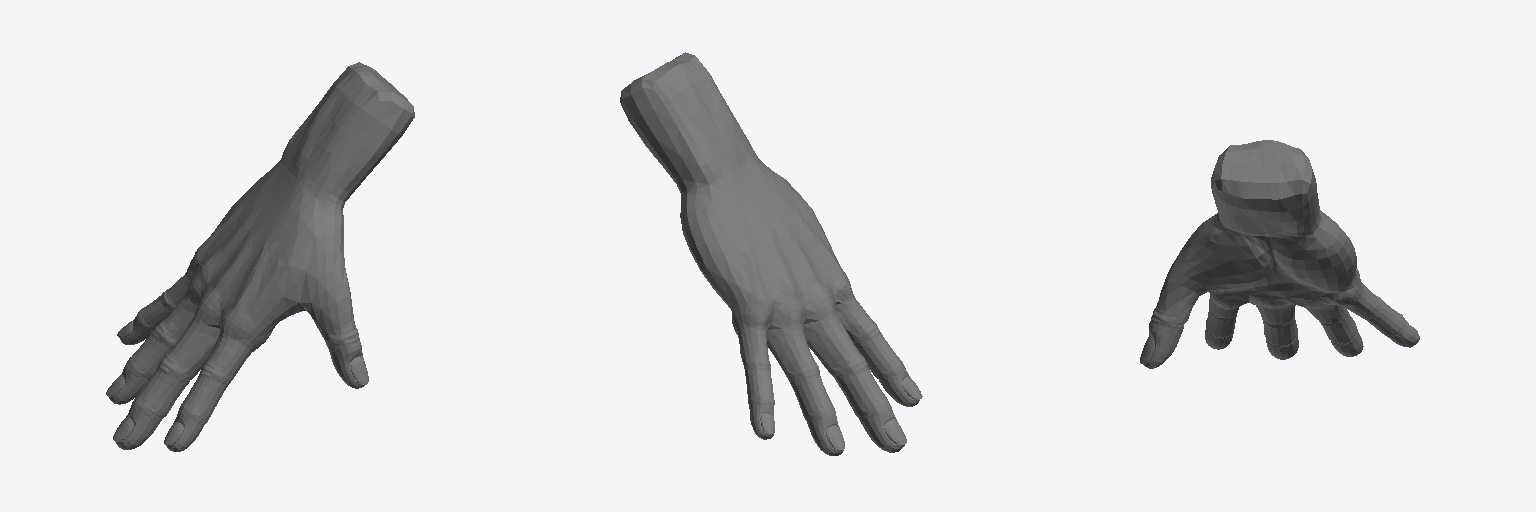
The model's file is mao.obj.
The picture shows the model from 3 angles: view 1: azimuth 30°, elevation 25°; view 2: azimuth 150°, elevation 25°; view 3: azimuth 270°, elevation 25°; orthographic projection.
Visible parts, largest first — view 1: ZBrushPolyMesh3D; view 2: ZBrushPolyMesh3D; view 3: ZBrushPolyMesh3D.
Part boxes in pixels (bbox=[...]): ZBrushPolyMesh3D: bbox=[106, 62, 414, 451]; ZBrushPolyMesh3D: bbox=[620, 52, 922, 455]; ZBrushPolyMesh3D: bbox=[1140, 140, 1419, 368].
Size of the model in its own units: 3.86 by 4.29 by 3.34.